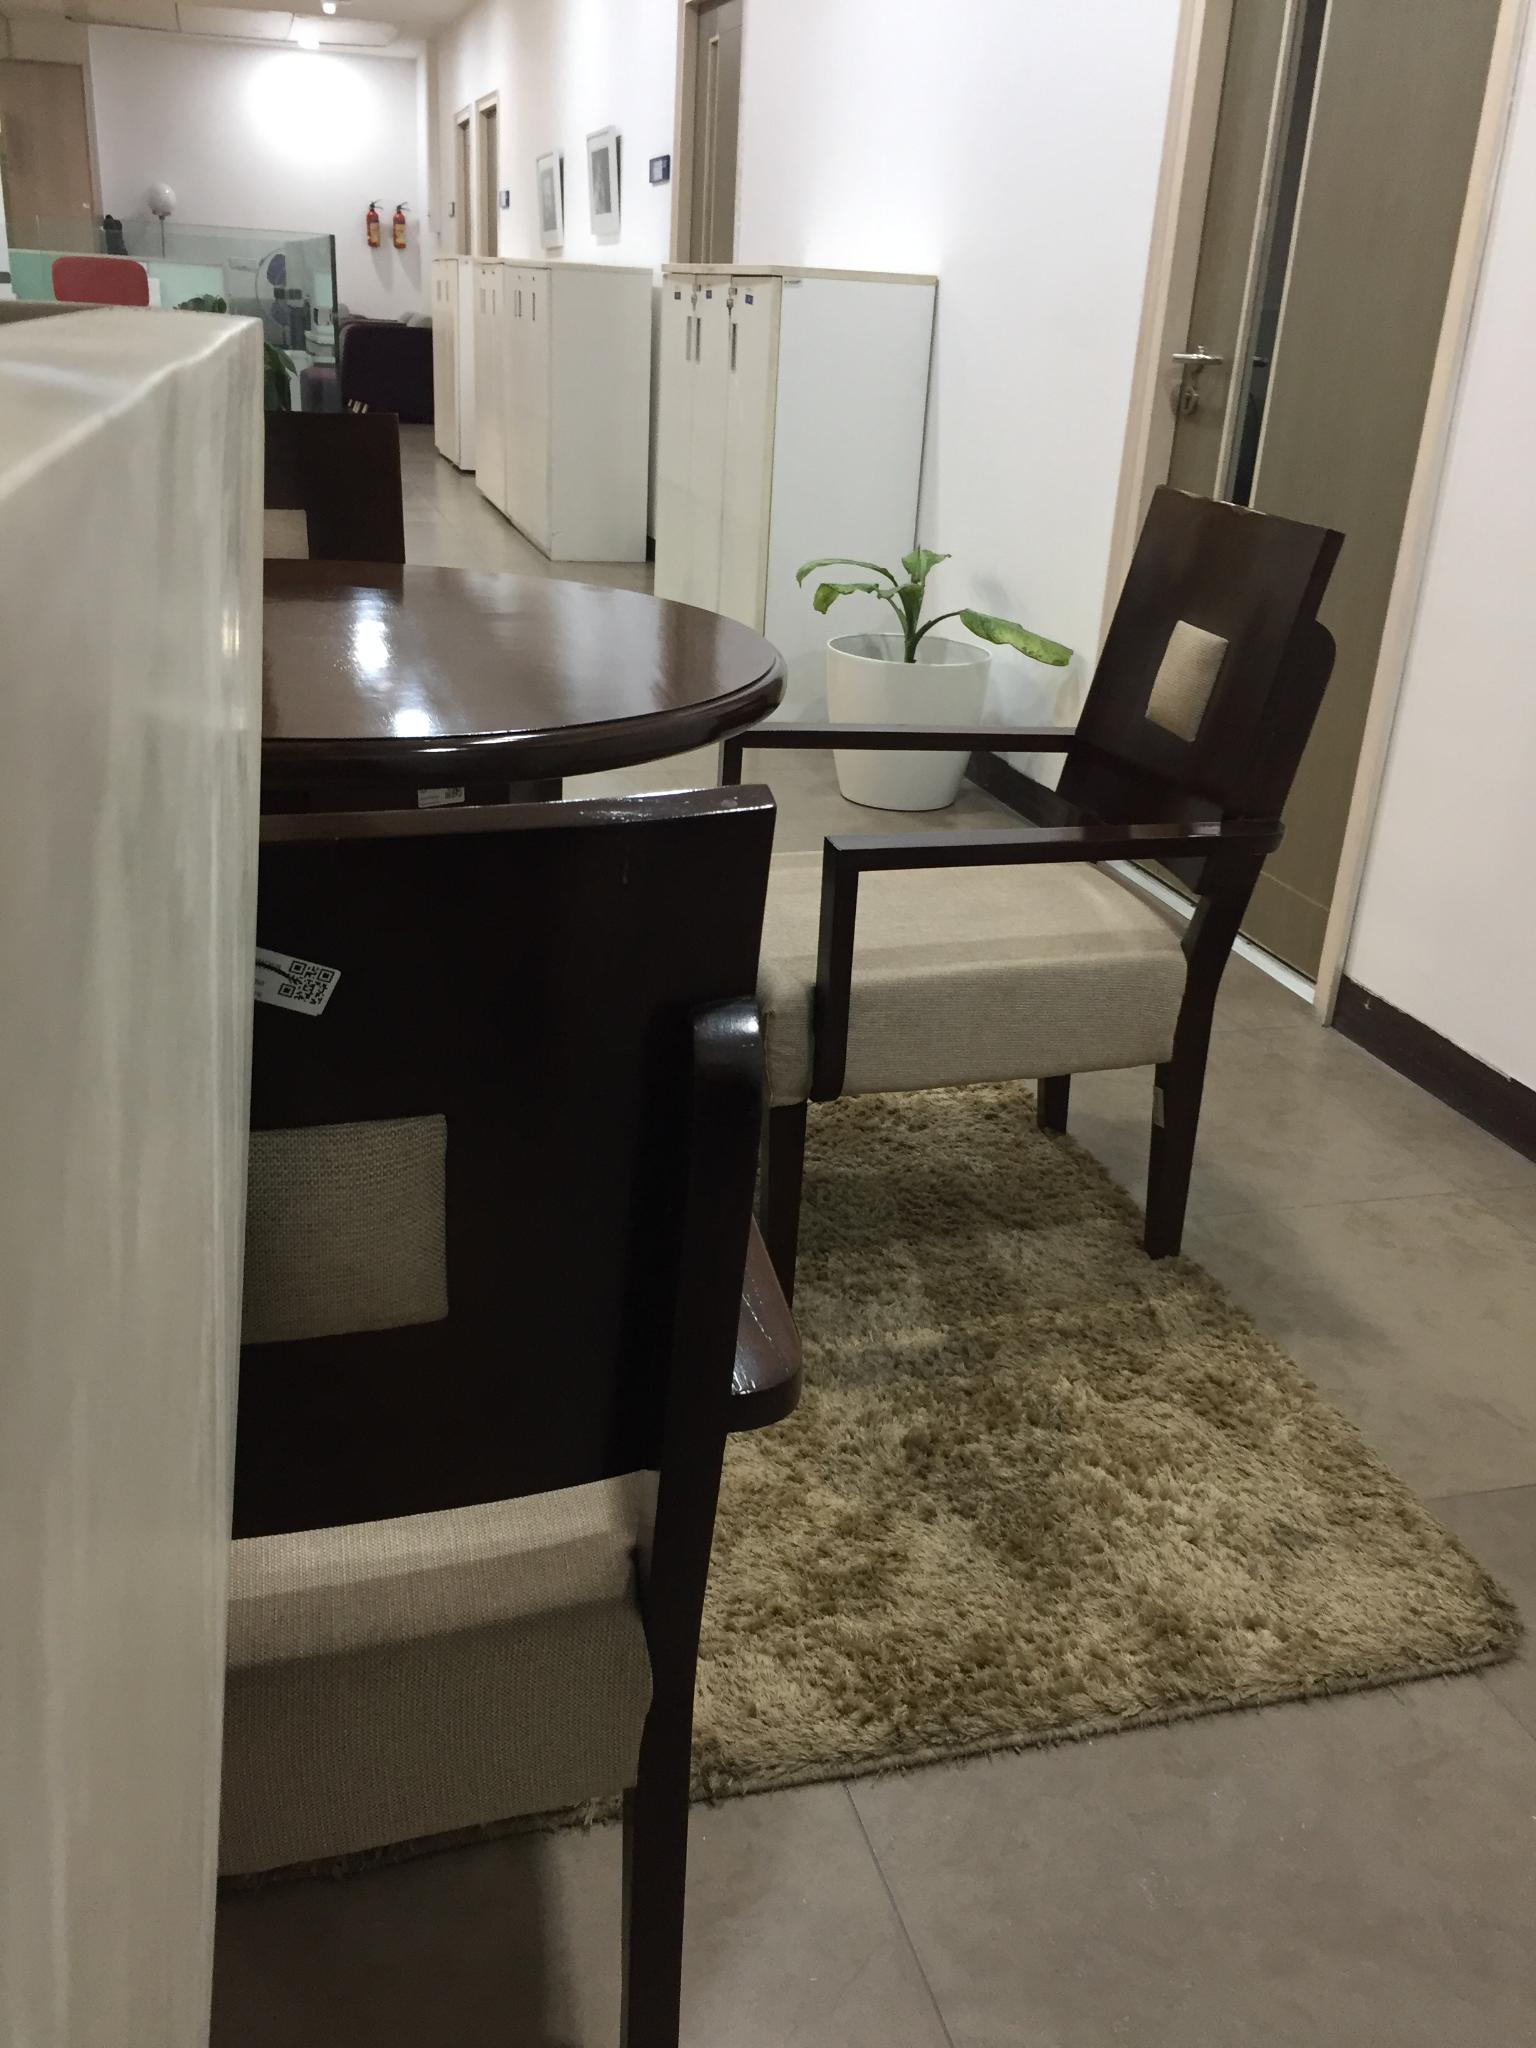chair: (0, 818, 784, 2042), (745, 484, 1344, 1300), (139, 390, 510, 681)
